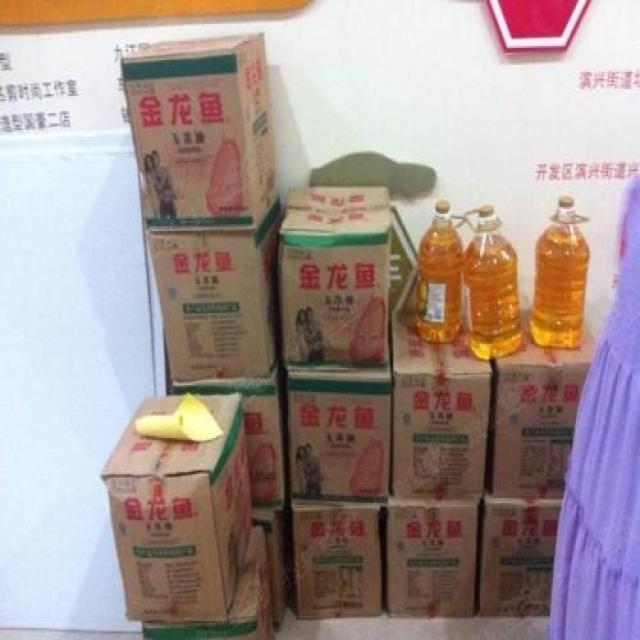box: (101, 395, 253, 621), (121, 34, 279, 228), (147, 198, 281, 382), (481, 314, 604, 498), (280, 187, 390, 369), (391, 312, 492, 496), (171, 368, 287, 512), (285, 351, 392, 503), (140, 525, 275, 638), (387, 495, 481, 616), (292, 500, 383, 616), (481, 496, 567, 617)
